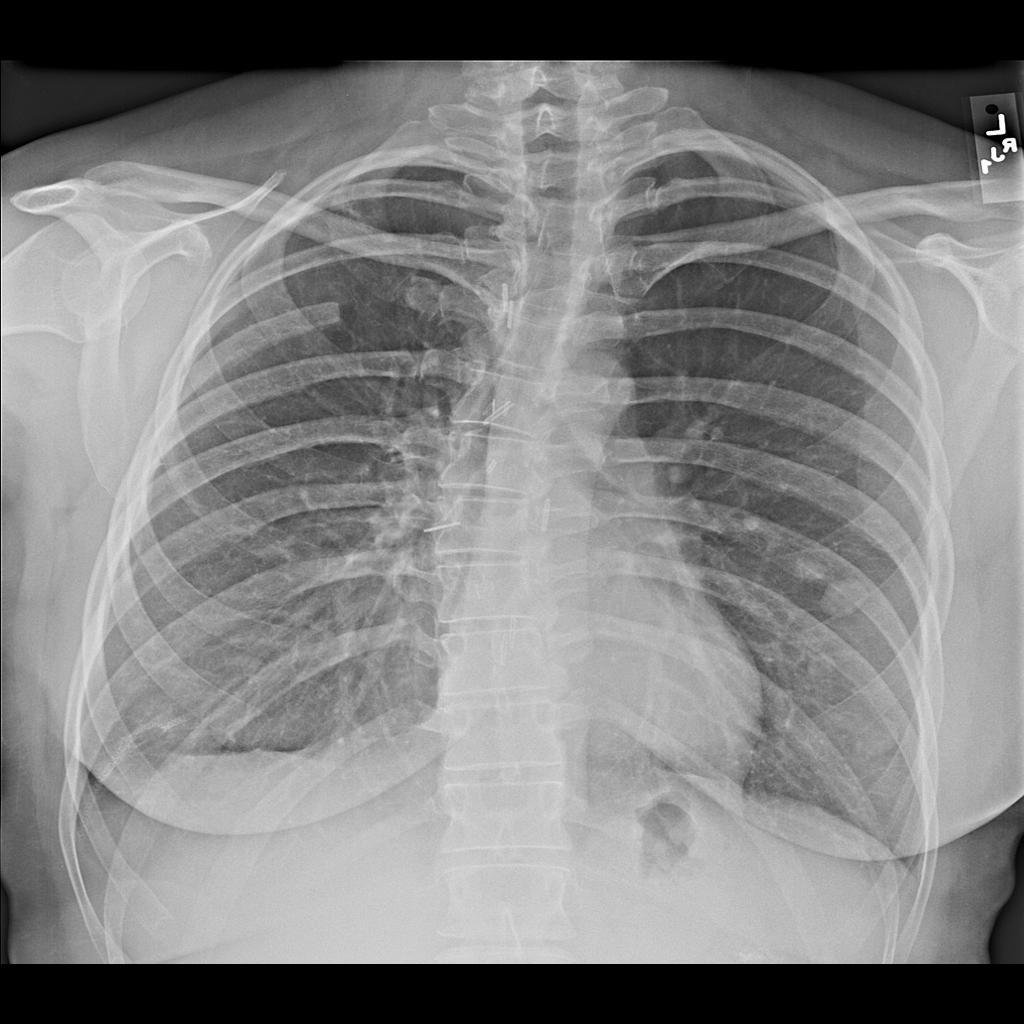Nodule: (819, 570, 881, 626)
